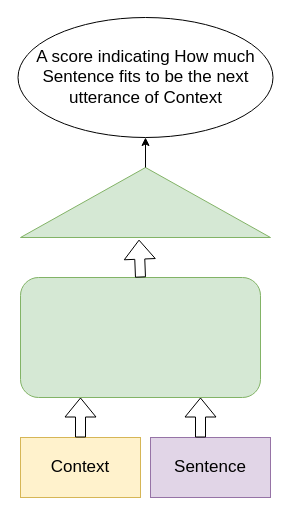
Image size: 290x515. Some labels were removed from this diagram. The shapes that lost their labels are listed below. From the top down, each one's box as (x1, y1, x2, y2) in pixels, then its label:
(20, 166, 270, 238): FFN
(20, 276, 260, 398): ALBERT V2 (From Pre-trained)
